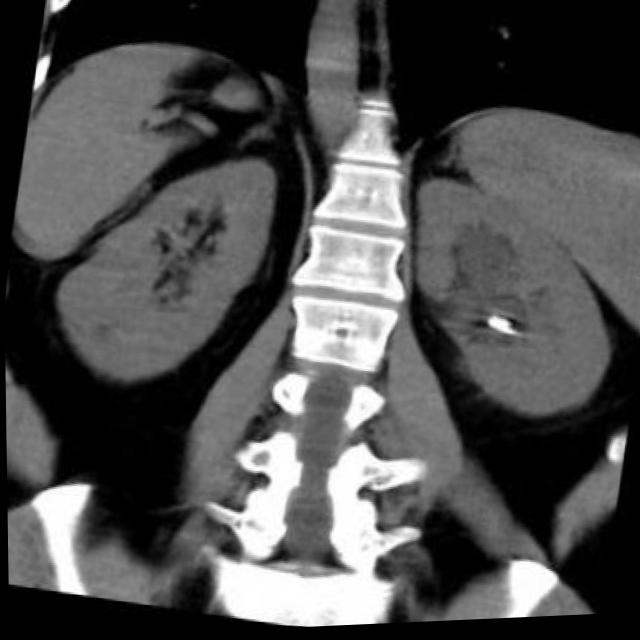Tas_Var: (482, 317, 519, 343), (498, 321, 512, 332)
